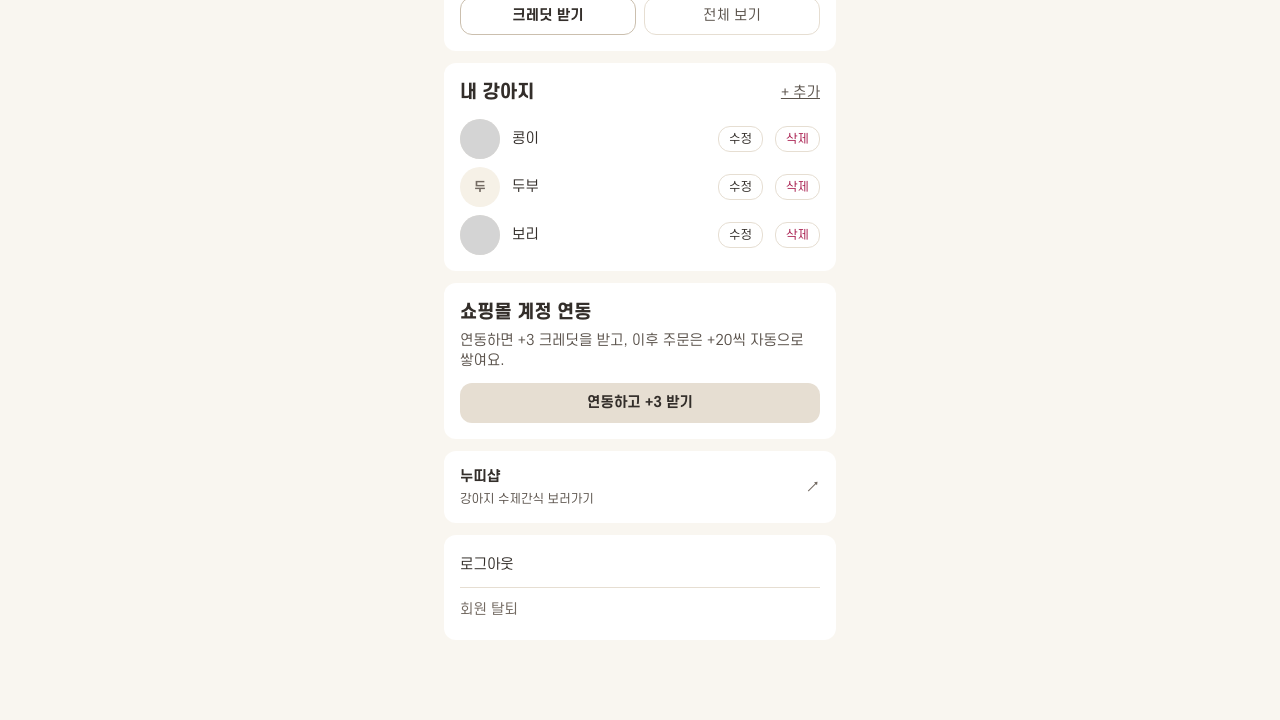
Test: W-12 · 회원 탈퇴 › 실패하면 계정이 그대로라고 말하고, 로컬 토큰도 남긴다
(page scrolled)
Click the button "회원 탈퇴": (489, 610) [460,587,820,632]
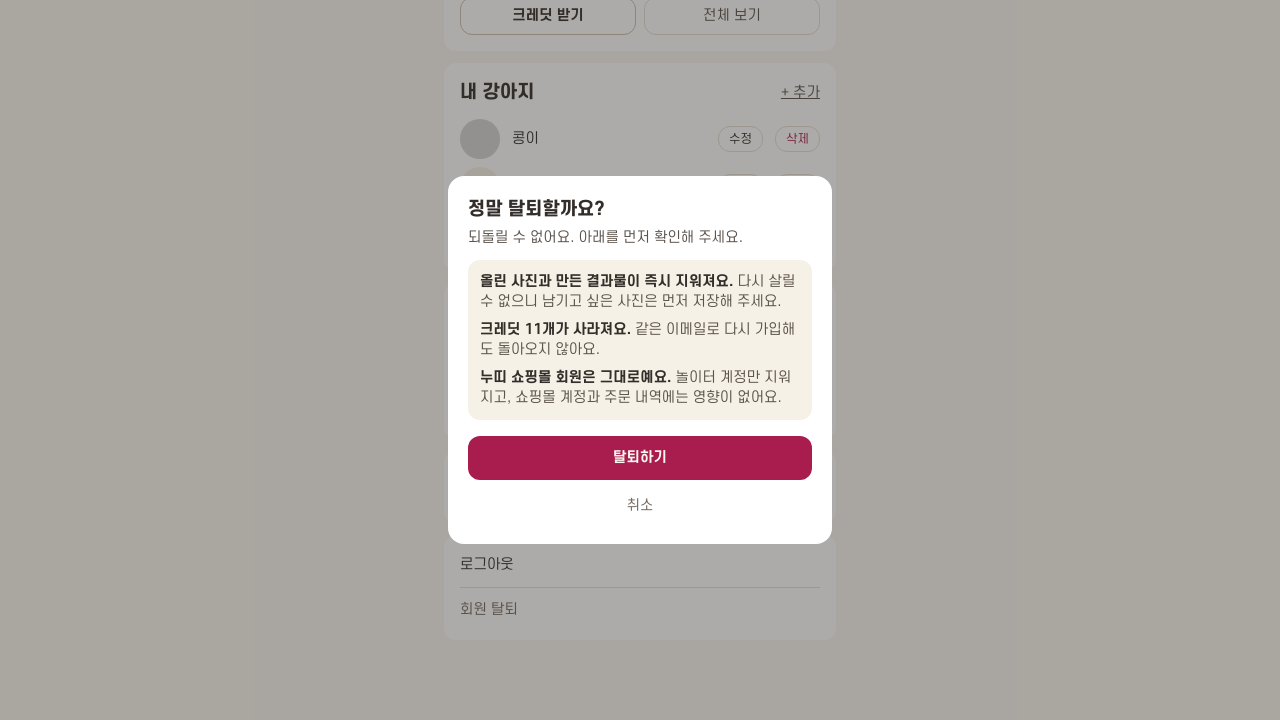
Click the button "탈퇴하기": (640, 458) [468,436,812,480]
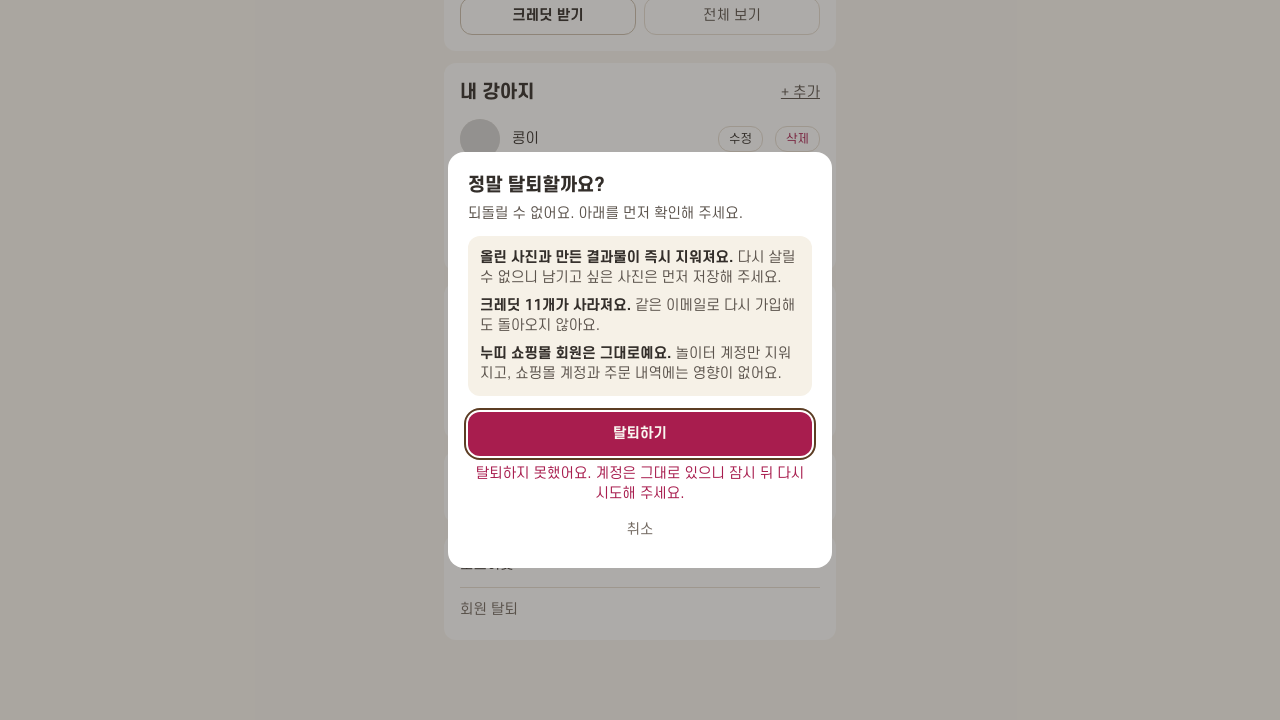
Now the message shows "계정은 그대로 있으니", box [476,465,804,502]
